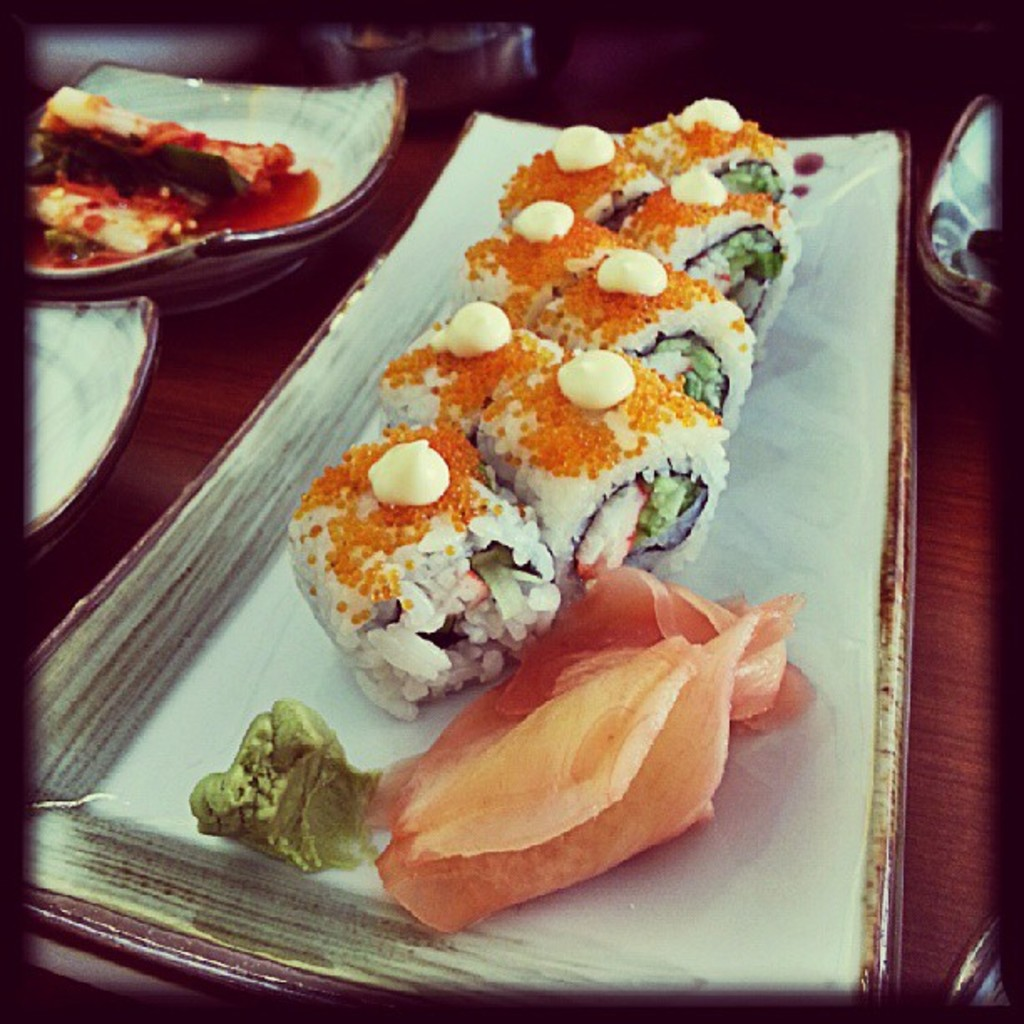sushi: (288, 97, 795, 740), (276, 422, 567, 708)
